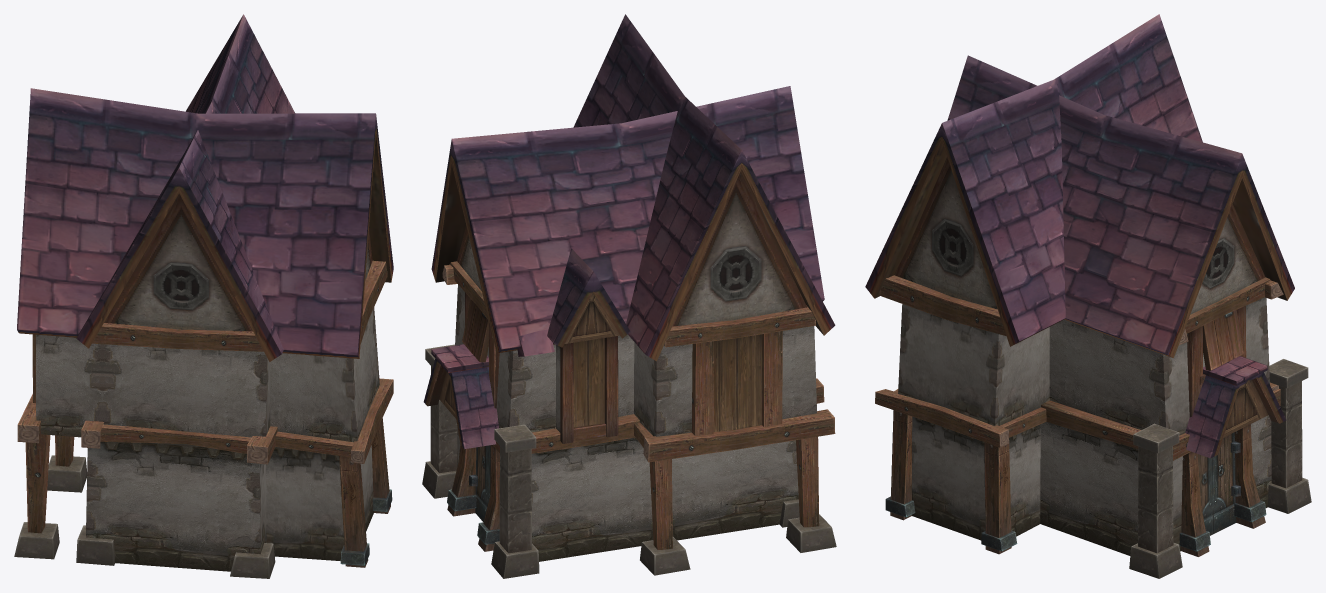
Rendered from building_city_zhuchengminfang01.FBX.
The picture shows the model from 3 angles, left to right: view 1: azimuth 30°, elevation 25°; view 2: azimuth 150°, elevation 25°; view 3: azimuth 270°, elevation 25°; orthographic projection. The views are drawn at different scales.
Parts seen in each view (by area): view 1: building_city_zhuchengminfang01; view 2: building_city_zhuchengminfang01; view 3: building_city_zhuchengminfang01.
Part boxes in pixels (bbox=[...]): building_city_zhuchengminfang01: bbox=[14, 14, 393, 578]; building_city_zhuchengminfang01: bbox=[422, 14, 836, 578]; building_city_zhuchengminfang01: bbox=[865, 14, 1311, 578].
Size of the model in its own units: 10.36 by 10.74 by 10.9.
